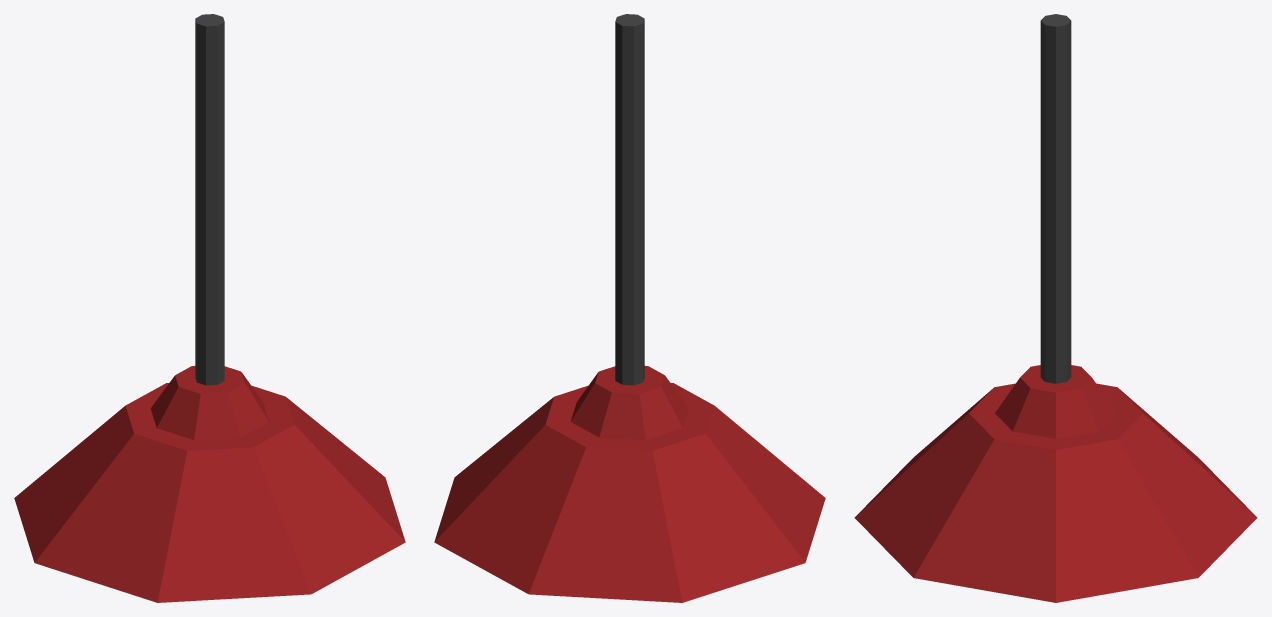
Rendered from ceiling lantern.fbx.
3 views of the same model, side by side, from view 1: azimuth 30°, elevation 25°; view 2: azimuth 150°, elevation 25°; view 3: azimuth 270°, elevation 25° (orthographic).
Visible parts, largest first — view 1: Cylinder.001; view 2: Cylinder.001; view 3: Cylinder.001.
Part boxes in pixels (x1,y1,x2,y2): Cylinder.001: (14, 14, 405, 602); Cylinder.001: (434, 14, 825, 602); Cylinder.001: (854, 14, 1257, 602).
Size of the model in its own units: 387 by 527 by 387.
